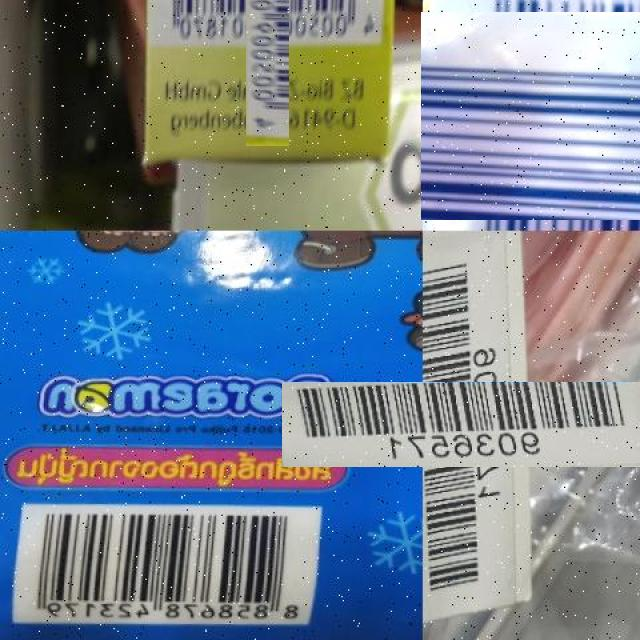Barcode: (352, 311, 579, 537), (427, 6, 640, 226), (18, 505, 310, 618), (195, 0, 341, 95)
